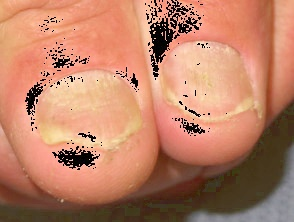Nail_psoriasis: (17, 52, 153, 180), (144, 17, 274, 147)
